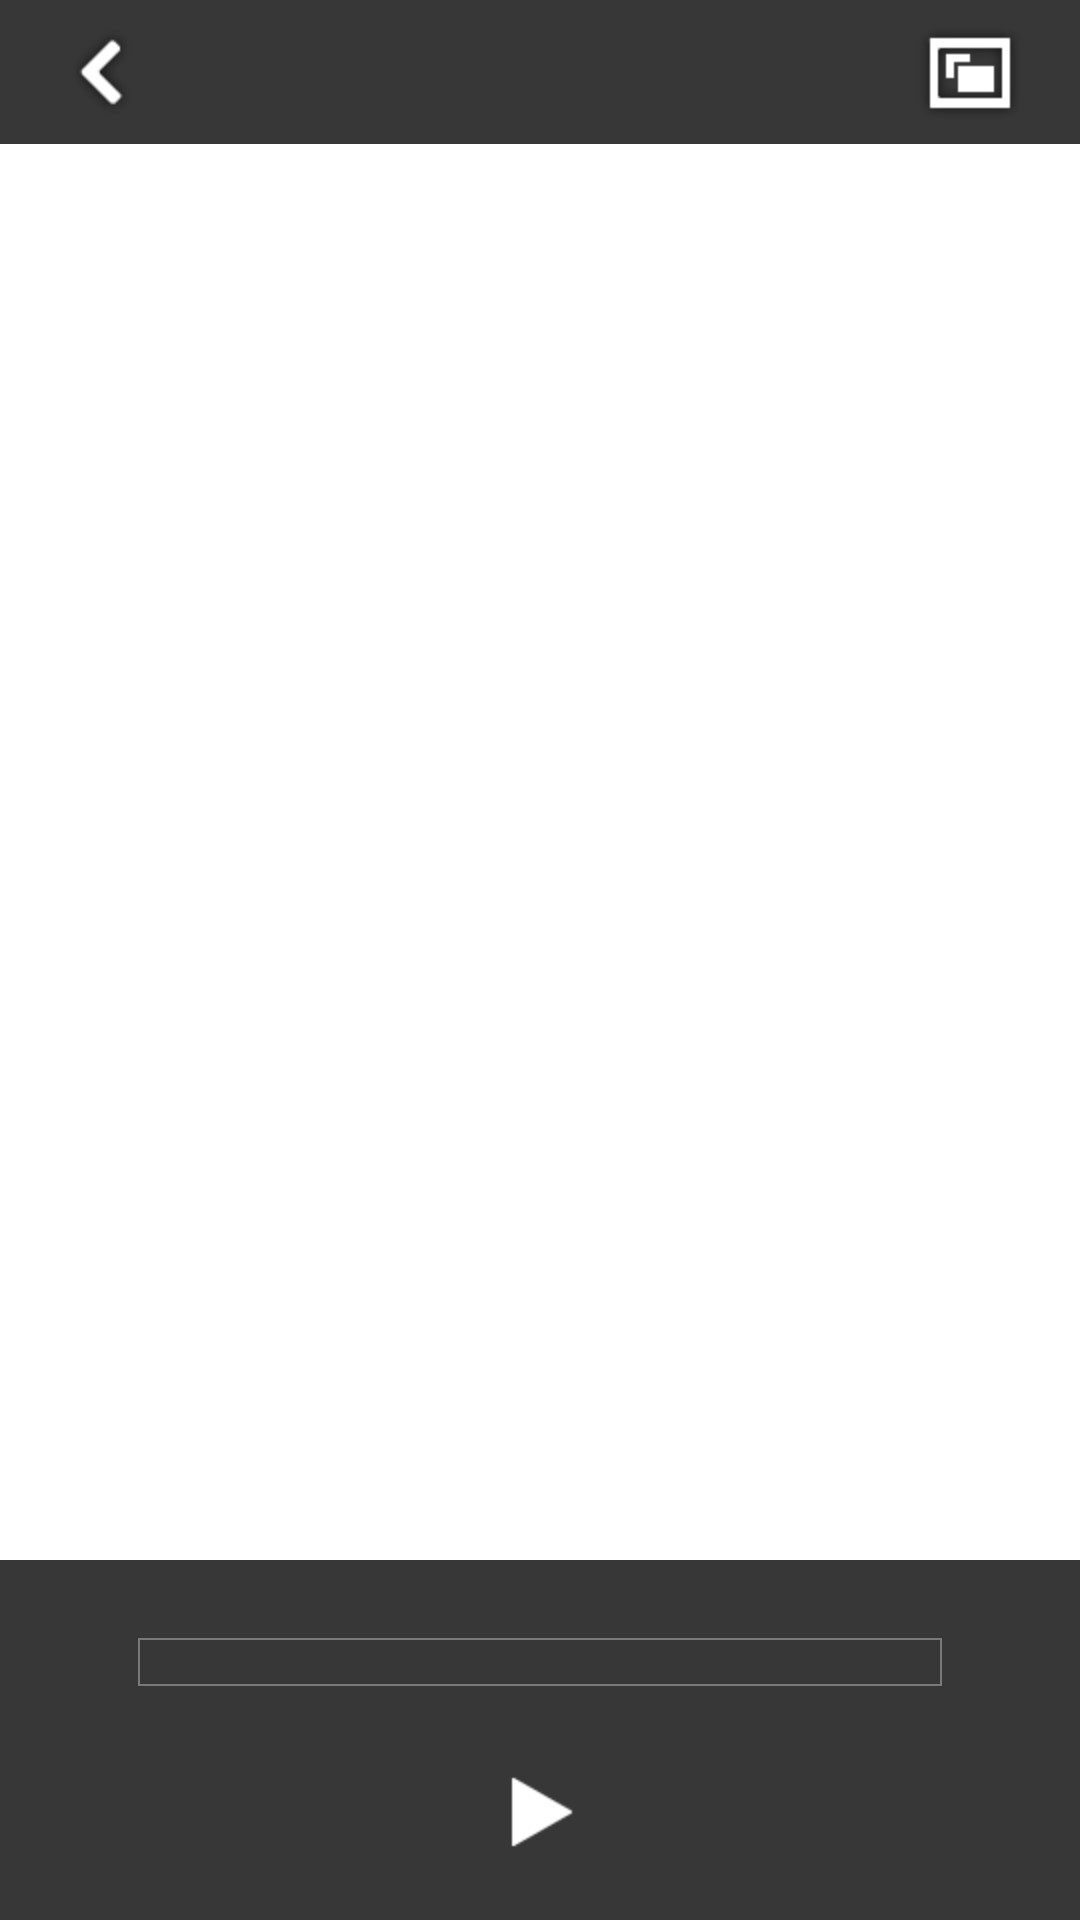

Screen size 1080×1920. Icon name, then its box in pixels as {"left": x1, "top": y1, "right": x2, "bottom": y2}:
bili player back: {"left": 80, "top": 40, "right": 122, "bottom": 105}
